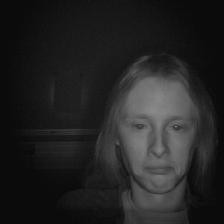sad: (98, 55, 221, 211)
